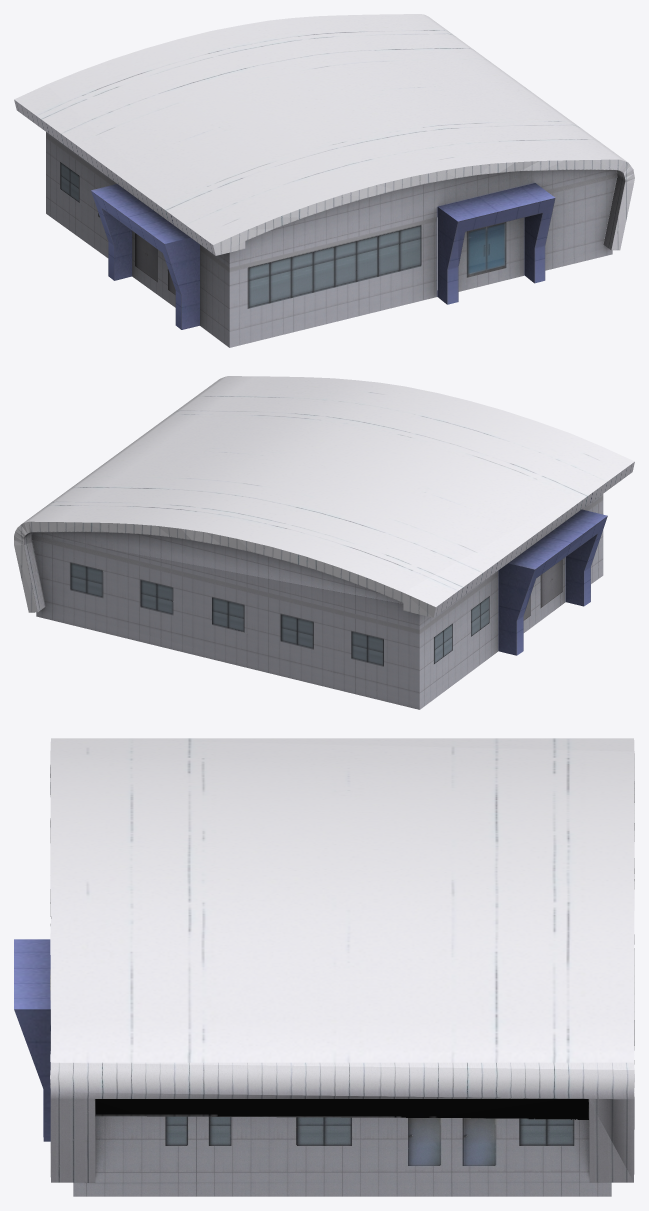
3 views of the same model, one above another, from view 1: azimuth 30°, elevation 25°; view 2: azimuth 150°, elevation 25°; view 3: azimuth 270°, elevation 25° (orthographic). The views are drawn at different scales.
Parts seen in each view (by area): view 1: MainBuilding; view 2: MainBuilding; view 3: MainBuilding.
Boxes of the visible parts, <box> form: MainBuilding: <box>14,14,634,347</box>; MainBuilding: <box>14,376,634,709</box>; MainBuilding: <box>14,738,634,1196</box>.
Size of the model in its own units: 3.01 by 0.8939 by 2.55.
Materials: 1 (1 with a texture image).
